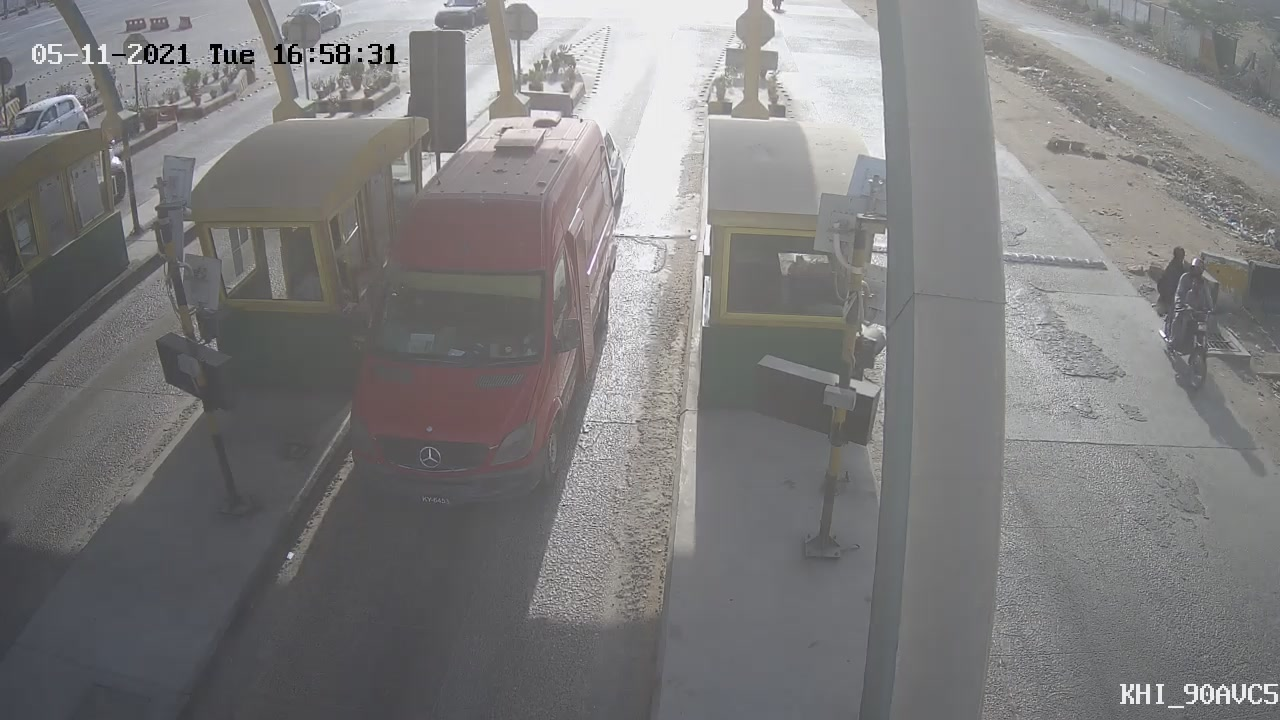F2: (314, 85, 640, 535)
